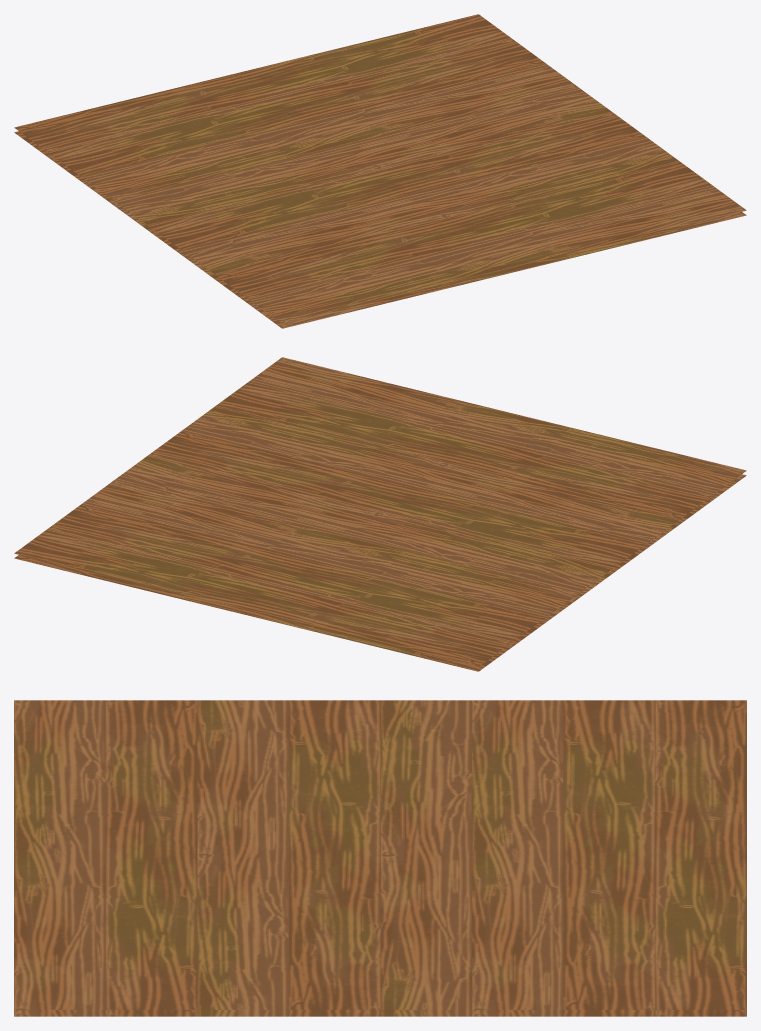
Rendered from Floor_WoodLight.gltf.
The picture shows the model from 3 angles, top to bottom: view 1: azimuth 30°, elevation 25°; view 2: azimuth 150°, elevation 25°; view 3: azimuth 270°, elevation 25°; orthographic projection. The views are drawn at different scales.
Visible parts, largest first — view 1: Floor_WoodLight; view 2: Floor_WoodLight; view 3: Floor_WoodLight.
Boxes of the visible parts, x1,y1,x2,y2 form: Floor_WoodLight: (14,14,746,328); Floor_WoodLight: (14,357,746,671); Floor_WoodLight: (14,700,746,1016).
Size of the model in its own units: 2 by 0.02 by 2.
1 material, 1 textured.
